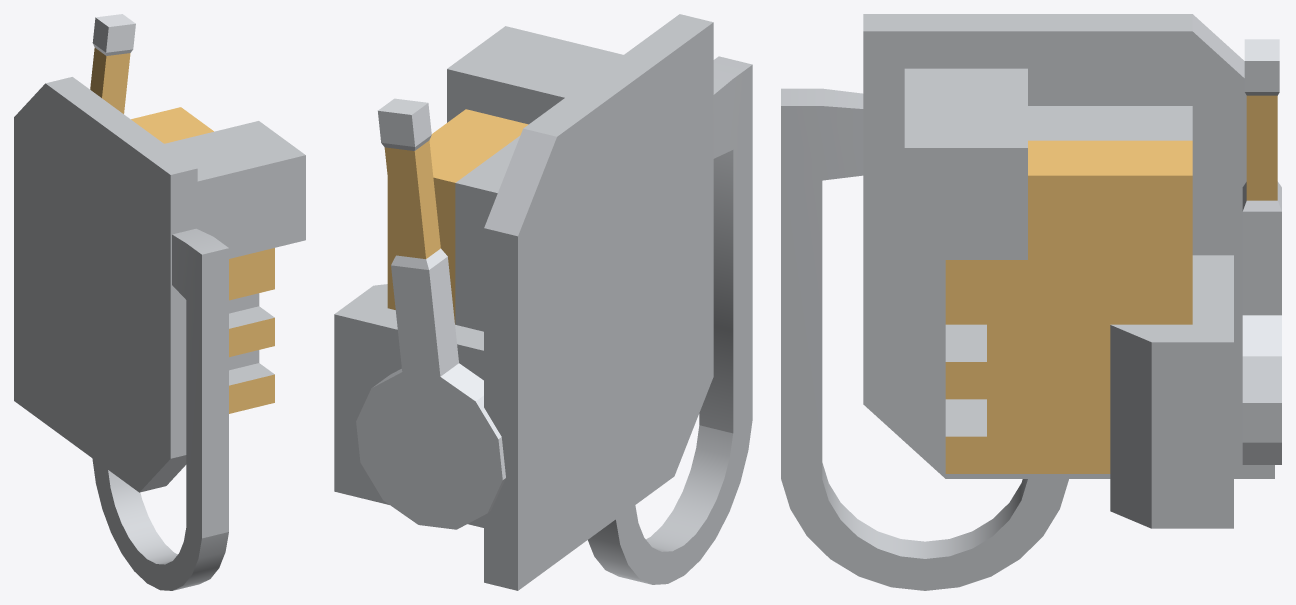
The model's file is switch-box.fbx.
3 views of the same model, side by side, from view 1: azimuth 30°, elevation 25°; view 2: azimuth 150°, elevation 25°; view 3: azimuth 270°, elevation 25° (orthographic). The views are drawn at different scales.
Parts seen in each view (by area): view 1: switch-base, switch-lever; view 2: switch-base, switch-lever; view 3: switch-base, switch-lever.
Boxes of the visible parts, <box> form: switch-base: <box>14,77,305,590</box>; switch-lever: <box>90,14,135,113</box>; switch-base: <box>334,14,752,590</box>; switch-lever: <box>356,98,505,529</box>; switch-base: <box>781,14,1274,590</box>; switch-lever: <box>1242,39,1281,464</box>.
Size of the model in its own units: 5.64 by 14.82 by 11.45.
